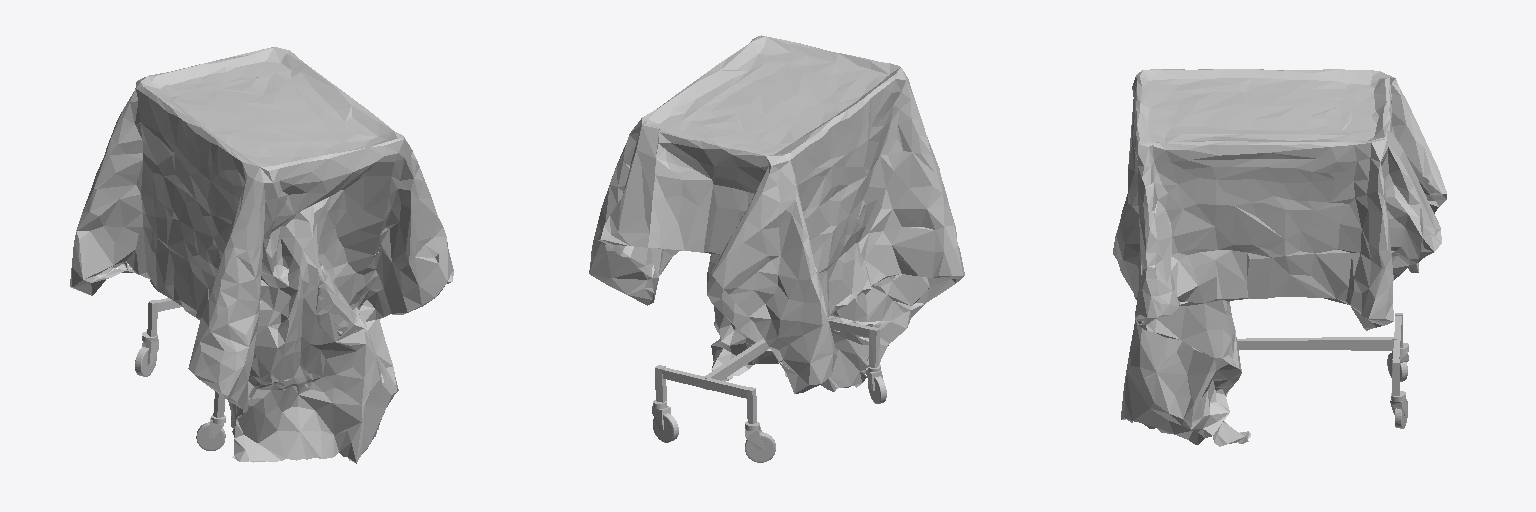
Rendered from table-1.obj.
3 renders of one model, left to right at view 1: azimuth 30°, elevation 25°; view 2: azimuth 150°, elevation 25°; view 3: azimuth 270°, elevation 25°, orthographic.
Visible parts, largest first — view 1: Surgical_Table_Single_Empty; view 2: Surgical_Table_Single_Empty; view 3: Surgical_Table_Single_Empty.
Boxes of the visible parts, box(x1,y1,x2,y2) form: Surgical_Table_Single_Empty: box(70, 47, 453, 463); Surgical_Table_Single_Empty: box(589, 35, 964, 462); Surgical_Table_Single_Empty: box(1113, 69, 1446, 446).
Bounding box in the file's own units: 1.07 × 1.2 × 1.18.